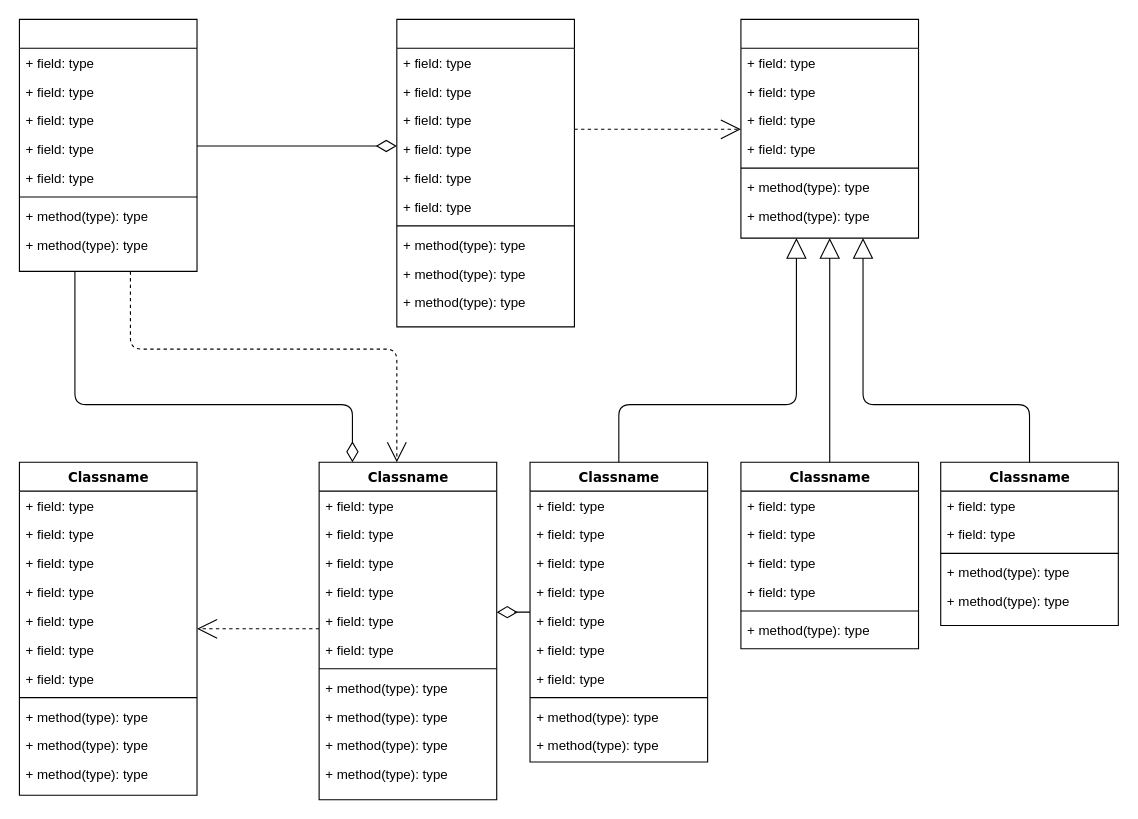
Image size: 1138x819. Some labels were removed from this diagram. Each missing label, with the box of its shape:
CashRegister: (396, 18, 574, 327)
Product: (740, 18, 919, 238)
ShoppingCart: (18, 18, 197, 271)
